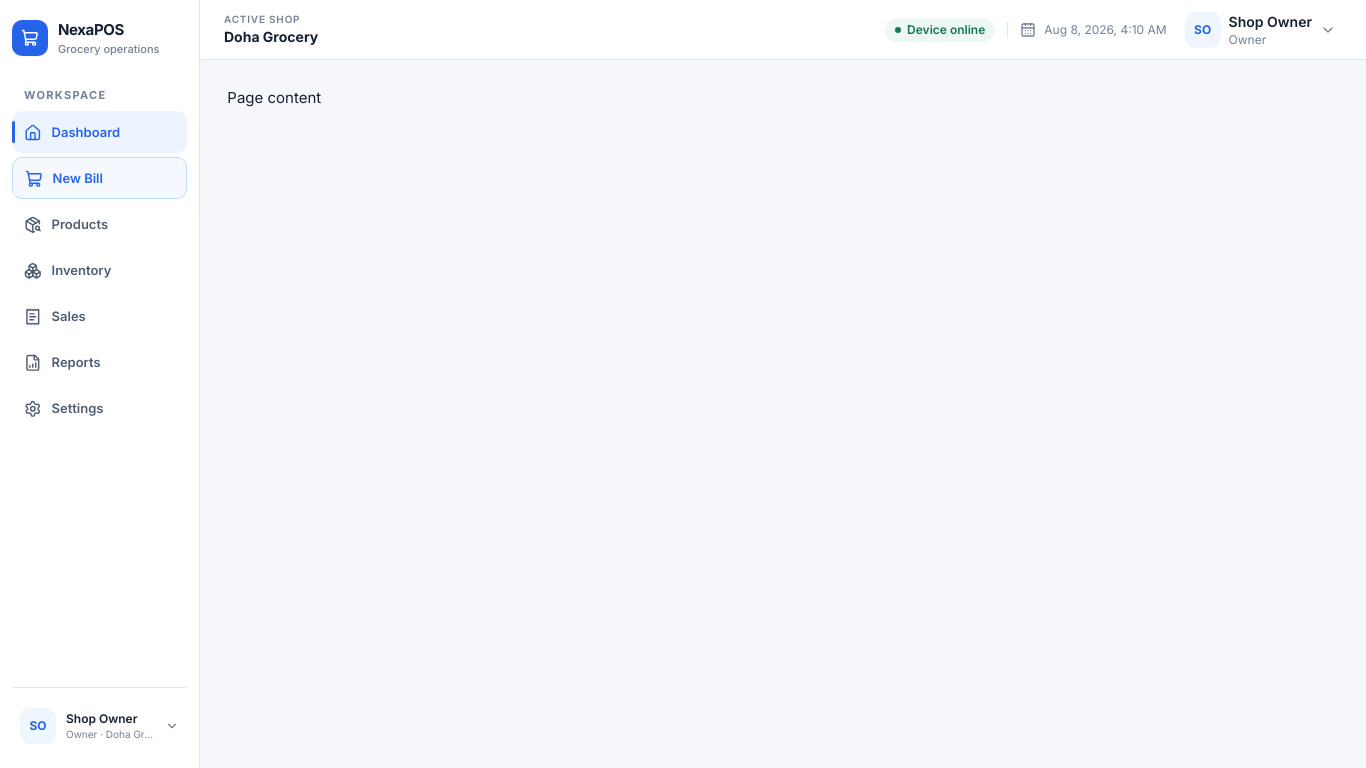
Test: premium application shell › opens the dynamically-loaded change password dialog from the account menu
Click the button with aria-label "Open account menu" at (100, 726), box [12, 700, 187, 752]
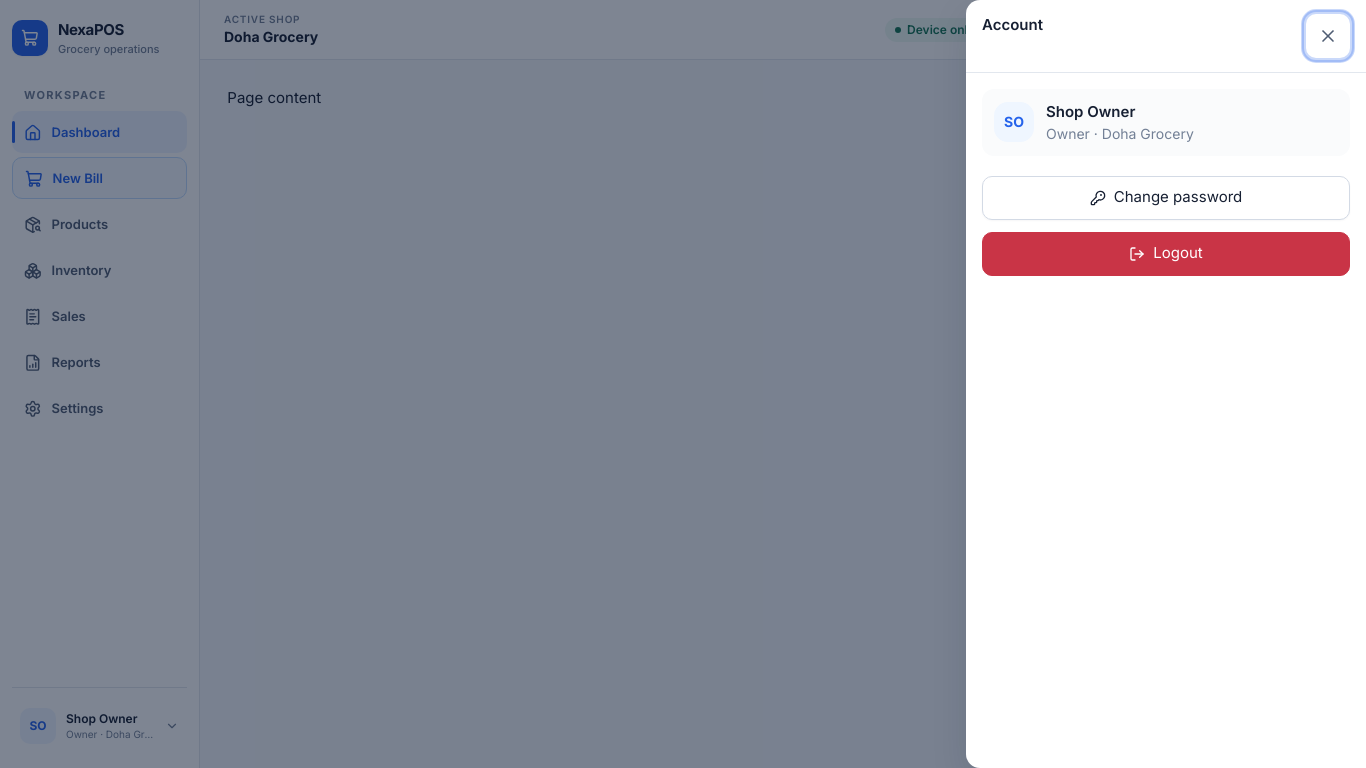
Click the button "Change password" at (1166, 198), box [982, 176, 1350, 220]
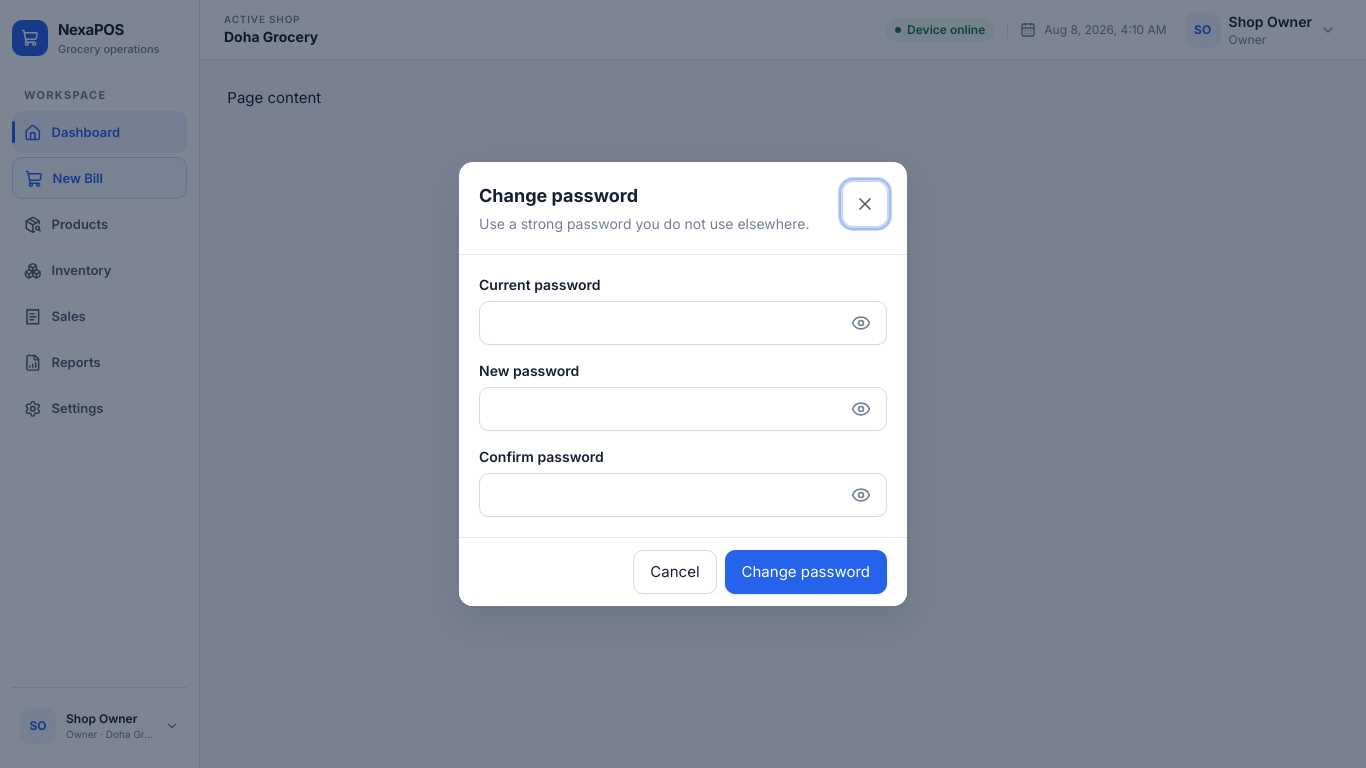
Expected: the dialog "Change password" is shown, [459, 162, 907, 606]
